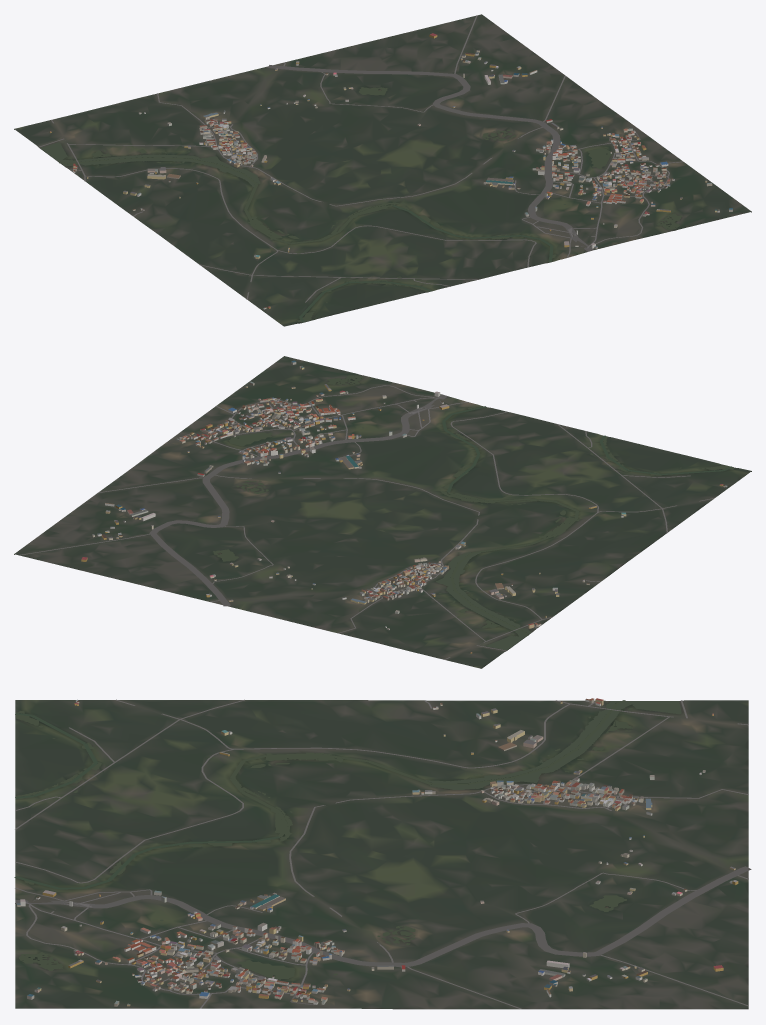
3 renders of one model, top to bottom at view 1: azimuth 30°, elevation 25°; view 2: azimuth 150°, elevation 25°; view 3: azimuth 270°, elevation 25°, orthographic. The views are drawn at different scales.
Parts seen in each view (by area): view 1: ground, buildings, roads, water; view 2: ground, buildings, roads, water; view 3: ground, buildings, roads, water.
Boxes of the visible parts, <box> form: ground: <box>14,14,751,326</box>; buildings: <box>49,33,732,309</box>; roads: <box>39,15,683,302</box>; water: <box>40,87,682,322</box>; ground: <box>14,356,751,668</box>; buildings: <box>81,360,727,653</box>; roads: <box>19,385,714,659</box>; water: <box>213,375,734,650</box>; ground: <box>15,700,748,1009</box>; buildings: <box>17,698,738,1006</box>; roads: <box>15,699,751,1009</box>; water: <box>14,700,681,979</box>.
Size of the model in its own units: 1405 by 22.82 by 1411.
